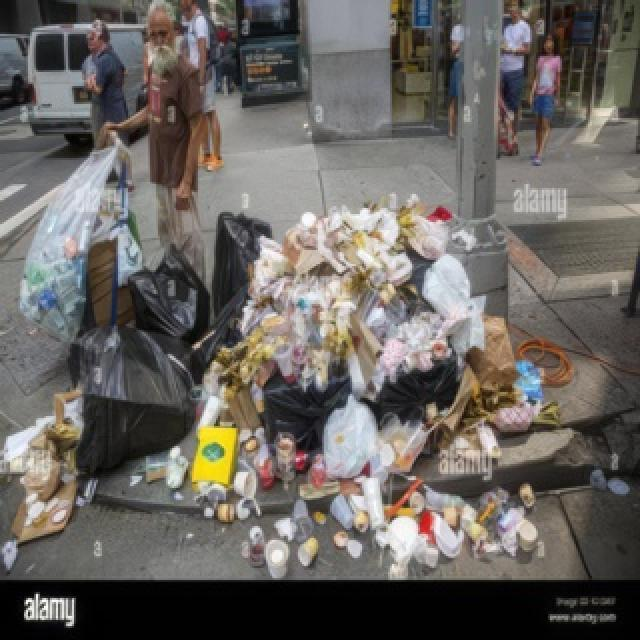Trashbag: (62, 334, 188, 468), (123, 258, 219, 344), (271, 378, 338, 452), (387, 372, 459, 426), (218, 215, 258, 290)
